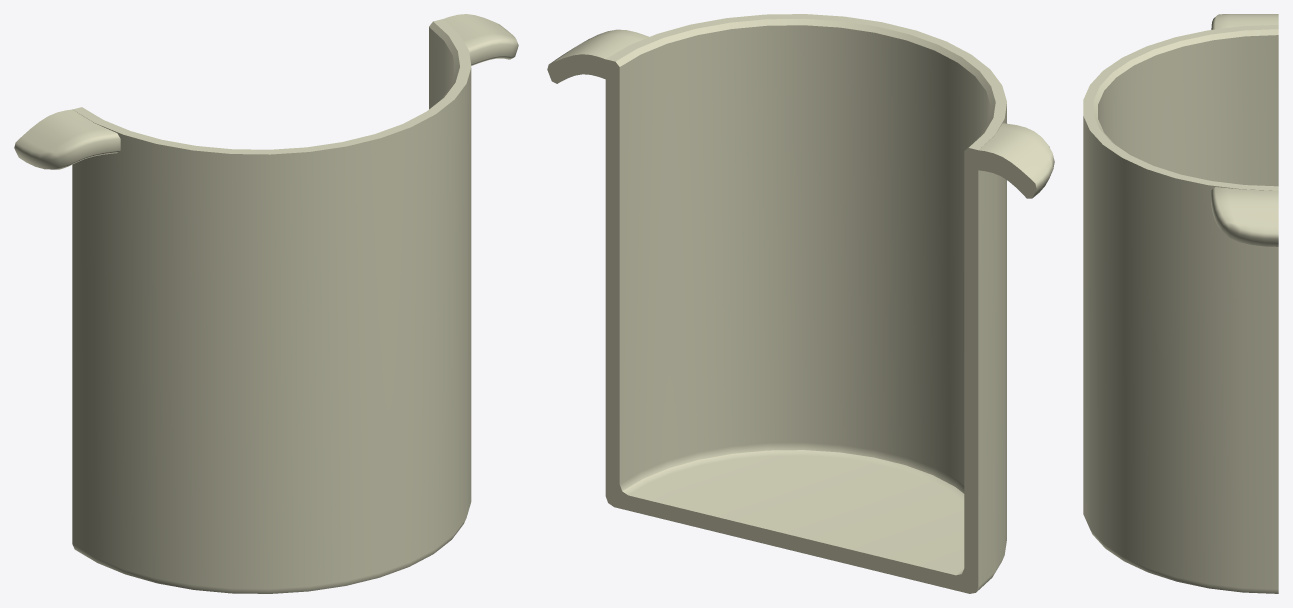
File: Oden_Result_Pot.gltf
3 views of the same model, side by side, from view 1: azimuth 30°, elevation 25°; view 2: azimuth 150°, elevation 25°; view 3: azimuth 270°, elevation 25° (orthographic). The views are drawn at different scales.
Parts seen in each view (by area): view 1: Oden_Result_Pot; view 2: Oden_Result_Pot; view 3: Oden_Result_Pot.
Boxes of the visible parts, x1,y1,x2,y2 form: Oden_Result_Pot: [14, 14, 518, 593]; Oden_Result_Pot: [547, 14, 1054, 593]; Oden_Result_Pot: [1083, 14, 1278, 593].
Bounding box in the file's own units: 45.97 × 40.08 × 17.43.
